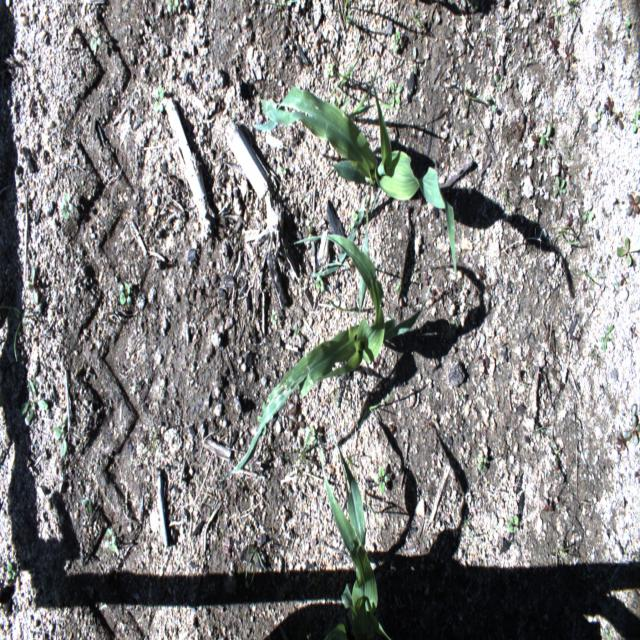crop: (219, 234, 430, 482), (252, 68, 458, 311), (319, 434, 391, 638)
weed: (338, 59, 394, 121), (281, 438, 318, 495), (325, 43, 366, 94), (0, 305, 29, 360), (455, 74, 491, 117), (21, 378, 48, 423), (356, 389, 394, 415), (623, 400, 640, 447), (616, 235, 640, 268), (245, 545, 260, 587), (52, 417, 67, 458), (374, 462, 390, 497), (24, 265, 38, 304), (556, 537, 572, 570), (410, 43, 425, 76), (306, 224, 321, 256), (599, 322, 613, 354), (561, 224, 581, 245), (330, 4, 352, 22), (554, 4, 566, 36), (262, 0, 300, 10), (61, 191, 74, 218), (539, 122, 552, 146), (256, 412, 268, 438), (390, 82, 402, 108), (392, 28, 403, 54), (90, 26, 101, 52), (564, 43, 575, 69), (506, 515, 520, 535), (552, 176, 566, 196), (120, 281, 132, 304), (287, 394, 298, 419), (288, 414, 305, 430), (106, 527, 115, 557), (630, 108, 639, 136), (411, 10, 425, 28), (626, 195, 640, 213), (602, 96, 614, 116), (616, 432, 630, 449), (81, 495, 92, 516), (477, 453, 488, 473), (348, 210, 358, 232), (156, 85, 164, 110), (580, 208, 593, 222), (566, 0, 579, 14), (304, 429, 316, 444), (7, 560, 15, 582), (624, 17, 632, 39), (614, 110, 623, 128), (315, 276, 325, 292), (484, 100, 496, 113), (543, 498, 554, 511), (494, 74, 501, 94), (326, 61, 334, 78), (165, 0, 178, 10), (503, 188, 510, 206), (619, 272, 628, 285), (568, 139, 573, 162), (470, 0, 479, 11), (604, 627, 612, 639), (293, 324, 300, 337), (269, 307, 275, 322), (594, 110, 601, 122), (280, 164, 286, 177), (394, 283, 401, 292), (465, 129, 470, 141)
